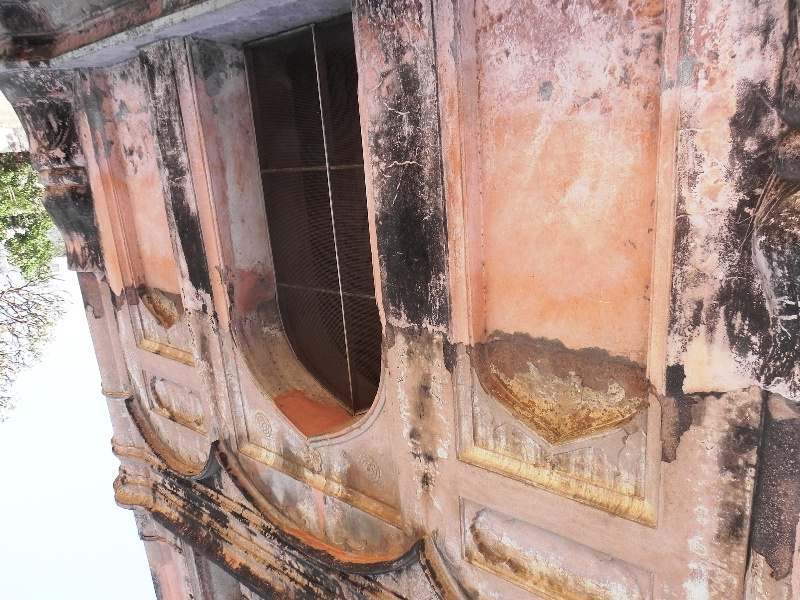Spalling: (438, 311, 645, 416), (652, 366, 708, 469), (111, 278, 151, 315)
